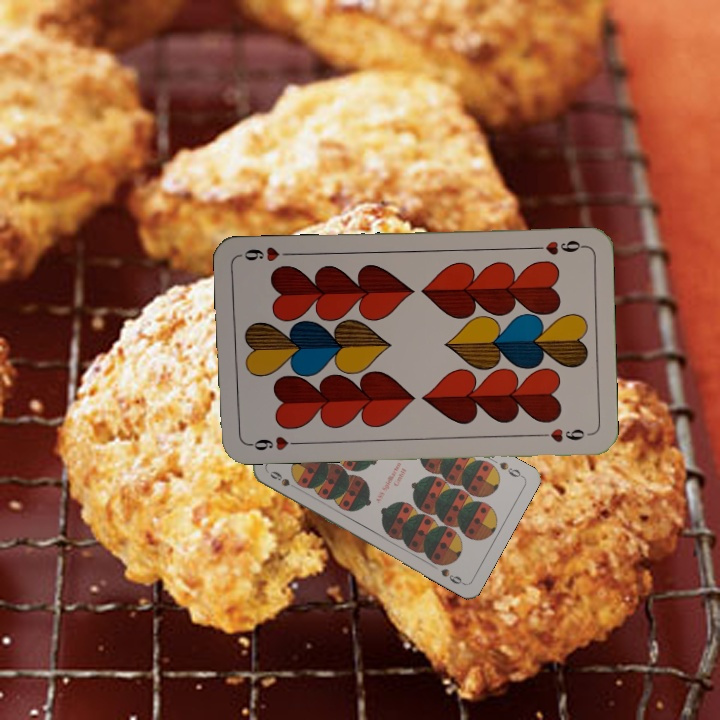H9: (528, 236, 587, 258), (243, 432, 302, 454)
S9: (266, 467, 303, 493), (495, 458, 526, 480)
